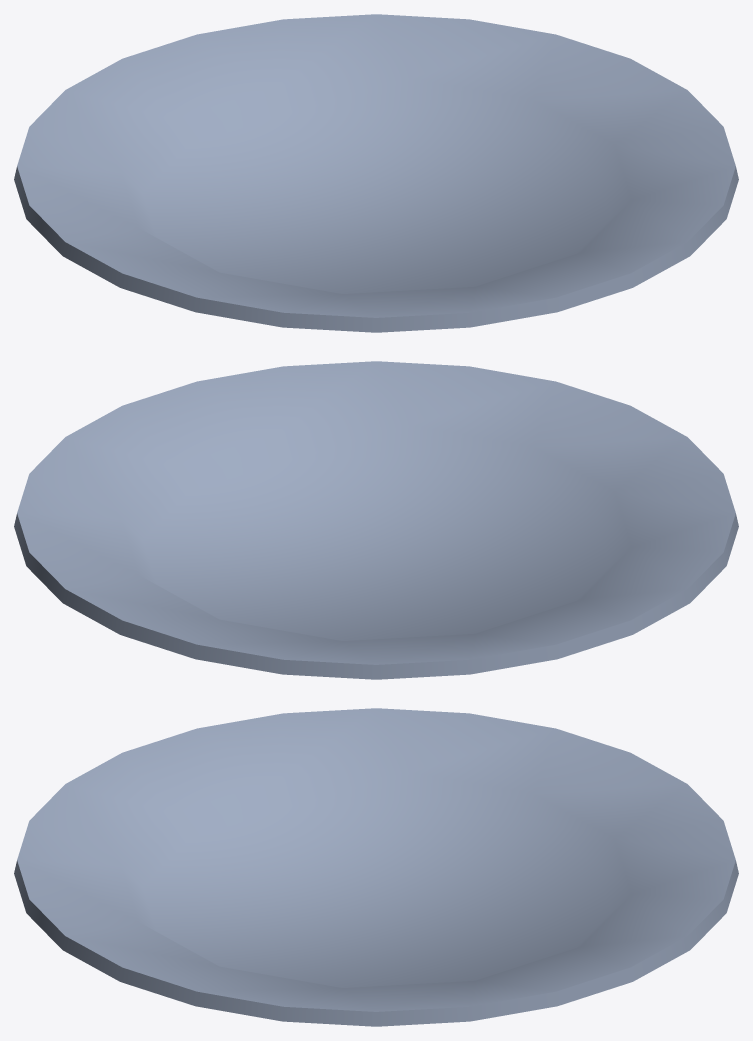
The model's file is PlateB.FBX.
3 views of the same model, one above another, from view 1: azimuth 30°, elevation 25°; view 2: azimuth 150°, elevation 25°; view 3: azimuth 270°, elevation 25° (orthographic).
Parts seen in each view (by area): view 1: PlateB_LOD0; view 2: PlateB_LOD0; view 3: PlateB_LOD0.
Part boxes in pixels (x1,y1,x2,y2): PlateB_LOD0: (14,14,738,332); PlateB_LOD0: (14,361,738,679); PlateB_LOD0: (14,708,738,1026).
Size of what is drawn, in the model's own units: 23.79 by 1.89 by 23.79.
